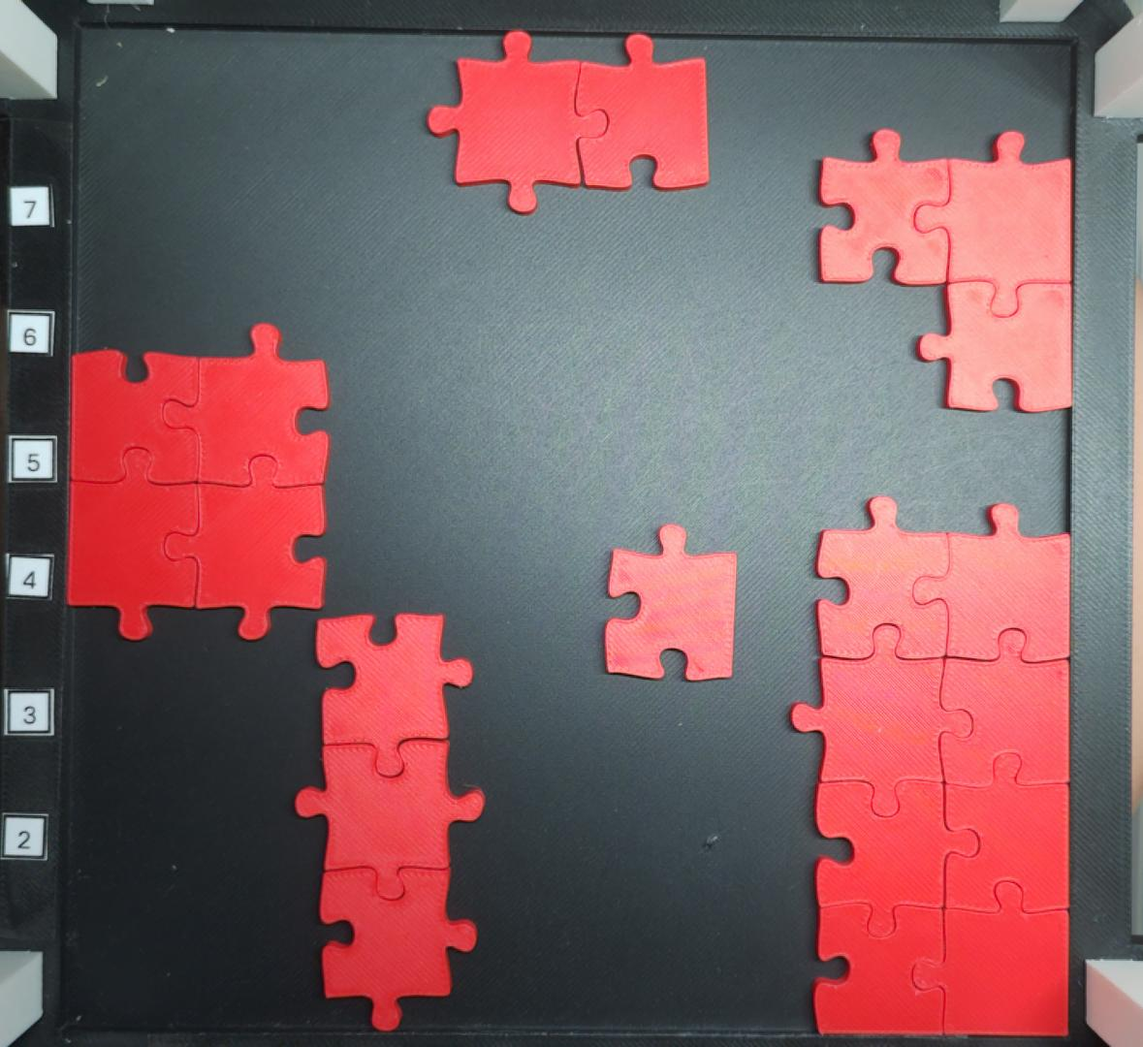p_1: (602, 524, 738, 683)
p_2: (424, 30, 712, 214)
p_3: (295, 613, 486, 1032), (813, 128, 1074, 413)
p_4: (65, 322, 333, 640)
p_m: (791, 496, 1070, 1038)
